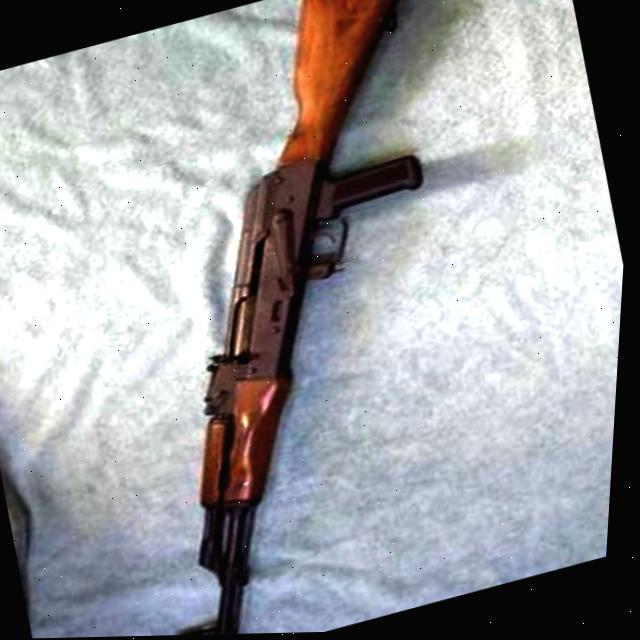rifle: (30, 0, 556, 639)
